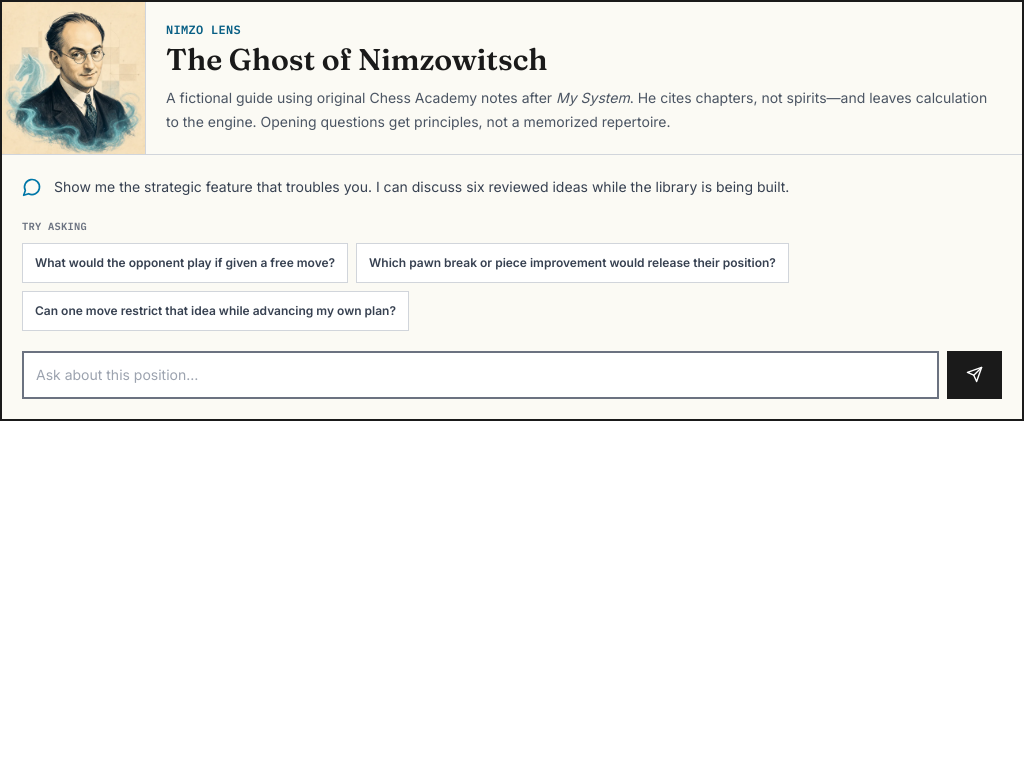
Scenario: NimzoCoach › keeps engine output visibly separate from the book-grounded answer
The width and height of the screenshot is (1024, 768).
Click the button "What would the opponent play if given a free move?" at (185, 263), box [22, 243, 348, 283]
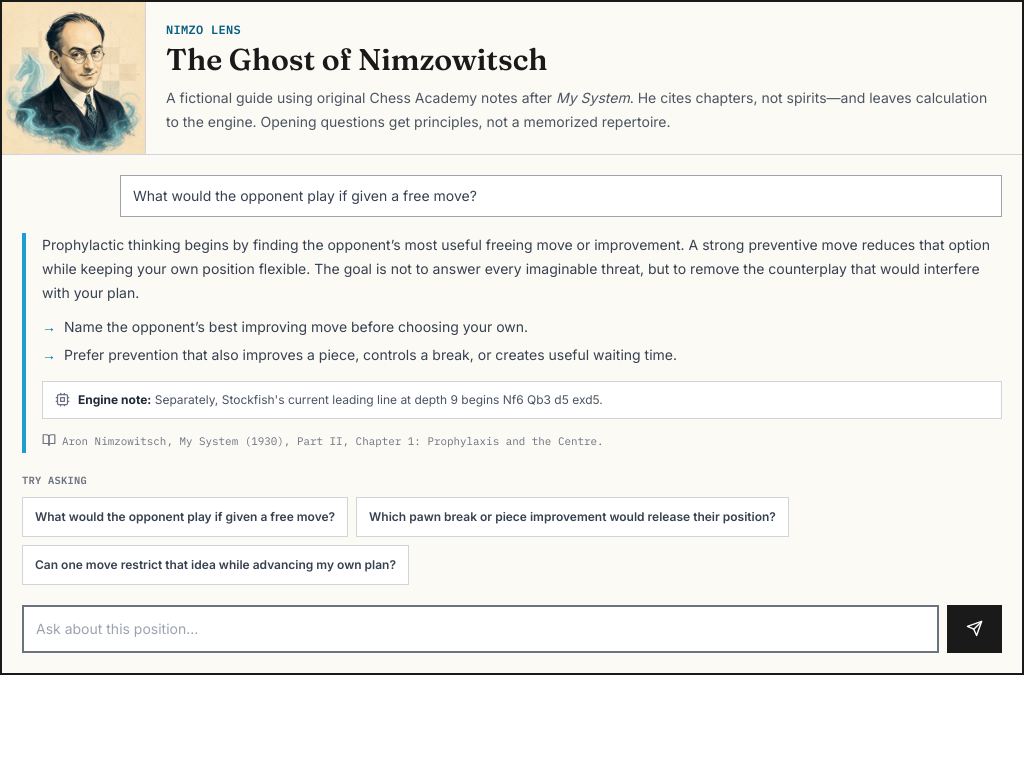
Expected: the text "Engine note:" is shown, [78, 392, 151, 407]
Expected: the text "Stockfish's current leading line at depth 9 begins Nf6 Qb3 d5 exd5" is shown, [155, 392, 603, 407]
